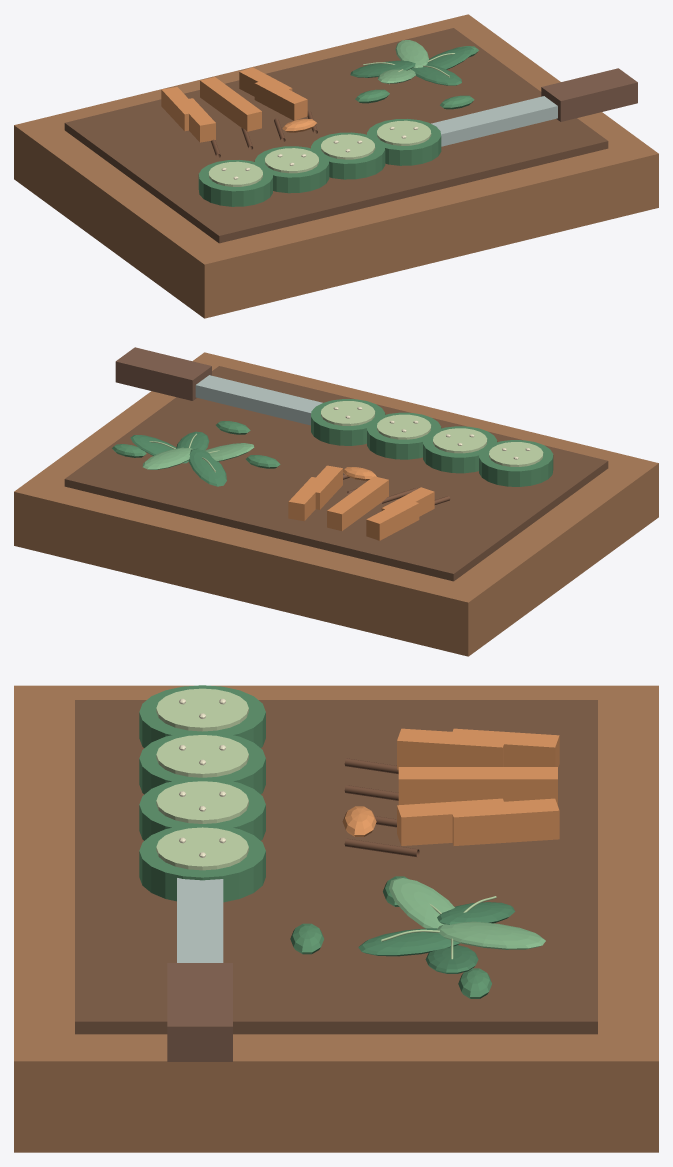
Rendered from chopped_ingredients.glb.
The picture shows the model from 3 angles, top to bottom: view 1: azimuth 30°, elevation 25°; view 2: azimuth 150°, elevation 25°; view 3: azimuth 270°, elevation 25°; orthographic projection. The views are drawn at different scales.
Visible parts, largest first — view 1: rounded_chopping_board_body, rounded_chopping_board_inset, knife_handle, knife_blade, cucumber_slice_rind_0, cucumber_slice_rind_3, cucumber_slice_rind_1, cucumber_slice_rind_2, carrot_stick_2, cucumber_slice_core_1, cucumber_slice_core_2, cucumber_slice_core_3 (+10 smaller); view 2: rounded_chopping_board_body, rounded_chopping_board_inset, knife_handle, knife_blade, cucumber_slice_rind_0, cucumber_slice_rind_3, cucumber_slice_rind_2, cucumber_slice_rind_1, carrot_stick_3, cucumber_slice_core_2, cucumber_slice_core_1, cucumber_slice_core_0 (+10 smaller); view 3: rounded_chopping_board_body, rounded_chopping_board_inset, knife_handle, cucumber_slice_rind_3, carrot_stick_5, knife_blade, carrot_stick_0, carrot_stick_1, cucumber_slice_core_2, cucumber_slice_core_0, cucumber_slice_core_1, cucumber_slice_core_3 (+14 smaller).
Part boxes in pixels (left/top/right/bottom): rounded_chopping_board_body: left=14, top=14, right=658, bottom=318; rounded_chopping_board_inset: left=64, top=28, right=608, bottom=243; knife_handle: left=541, top=68, right=637, bottom=121; knife_blade: left=431, top=96, right=557, bottom=146; cucumber_slice_rind_0: left=198, top=160, right=272, bottom=206; cucumber_slice_rind_3: left=367, top=118, right=441, bottom=165; cucumber_slice_rind_1: left=254, top=146, right=329, bottom=193; cucumber_slice_rind_2: left=311, top=132, right=385, bottom=179; carrot_stick_2: left=254, top=78, right=307, bottom=120; cucumber_slice_core_1: left=264, top=148, right=318, bottom=173; cucumber_slice_core_2: left=321, top=134, right=375, bottom=159; cucumber_slice_core_3: left=377, top=120, right=431, bottom=145; rounded_chopping_board_body: left=14, top=352, right=658, bottom=656; rounded_chopping_board_inset: left=64, top=366, right=608, bottom=581; knife_handle: left=115, top=347, right=211, bottom=400; knife_blade: left=195, top=375, right=322, bottom=425; cucumber_slice_rind_0: left=479, top=440, right=553, bottom=486; cucumber_slice_rind_3: left=311, top=399, right=385, bottom=445; cucumber_slice_rind_2: left=367, top=412, right=441, bottom=459; cucumber_slice_rind_1: left=423, top=426, right=497, bottom=473; carrot_stick_3: left=366, top=498, right=419, bottom=540; cucumber_slice_core_2: left=377, top=414, right=431, bottom=439; cucumber_slice_core_1: left=433, top=428, right=487, bottom=453; cucumber_slice_core_0: left=489, top=442, right=543, bottom=466; rounded_chopping_board_body: left=14, top=685, right=658, bottom=1152; rounded_chopping_board_inset: left=75, top=700, right=597, bottom=1034; knife_handle: left=167, top=963, right=232, bottom=1061; cucumber_slice_rind_3: left=139, top=824, right=265, bottom=902; carrot_stick_5: left=449, top=798, right=559, bottom=845; knife_blade: left=177, top=878, right=223, bottom=962; carrot_stick_0: left=397, top=728, right=506, bottom=769; carrot_stick_1: left=398, top=767, right=505, bottom=804; cucumber_slice_core_2: left=156, top=781, right=248, bottom=823; cucumber_slice_core_0: left=156, top=688, right=248, bottom=731; cucumber_slice_core_1: left=156, top=735, right=248, bottom=777; cucumber_slice_core_3: left=156, top=827, right=248, bottom=870.
Size of the model in its own units: 0.769 by 0.1325 by 0.53.
